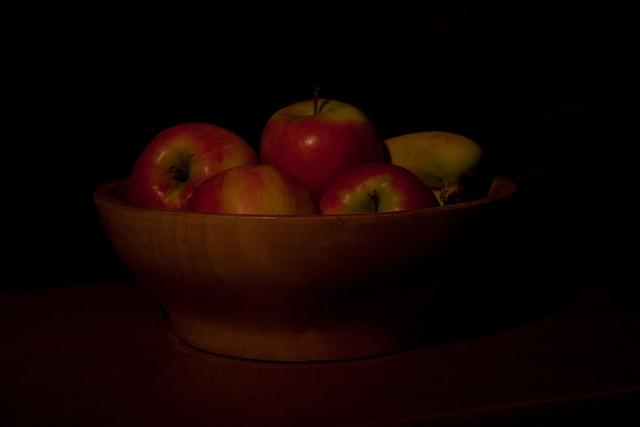apple: (260, 87, 384, 209), (128, 121, 260, 212), (316, 162, 442, 214), (190, 164, 318, 215)
banana: (384, 132, 480, 204)
